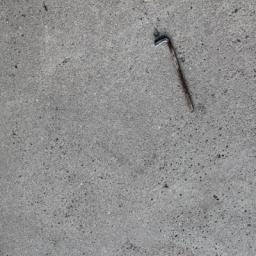FOD: (150, 33, 198, 115)
